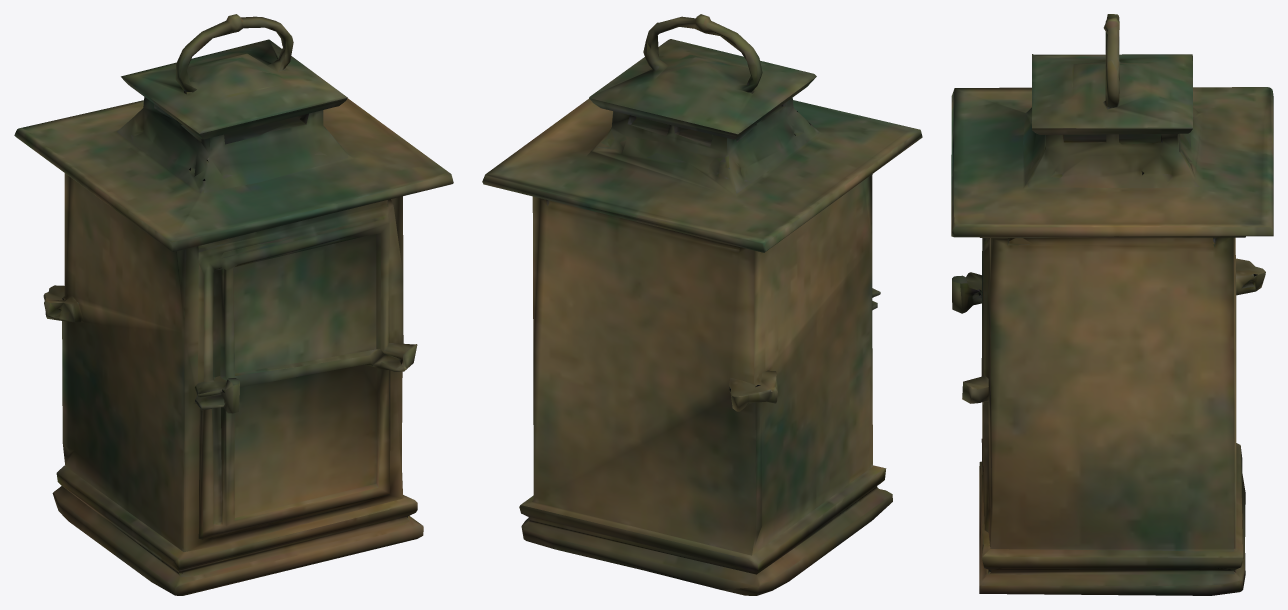
File: ancient-bronze-lantern-v001.glb
3 views of the same model, side by side, from view 1: azimuth 30°, elevation 25°; view 2: azimuth 150°, elevation 25°; view 3: azimuth 270°, elevation 25° (orthographic). The views are drawn at different scales.
Parts seen in each view (by area): view 1: ancient-bronze-lantern; view 2: ancient-bronze-lantern; view 3: ancient-bronze-lantern.
Part boxes in pixels (x1,y1,x2,y2): ancient-bronze-lantern: (14, 14, 453, 595); ancient-bronze-lantern: (482, 14, 922, 595); ancient-bronze-lantern: (951, 14, 1273, 595).
Bounding box in the file's own units: 0.409 × 0.6963 × 0.3938.
Materials: 1 (1 with a texture image).
